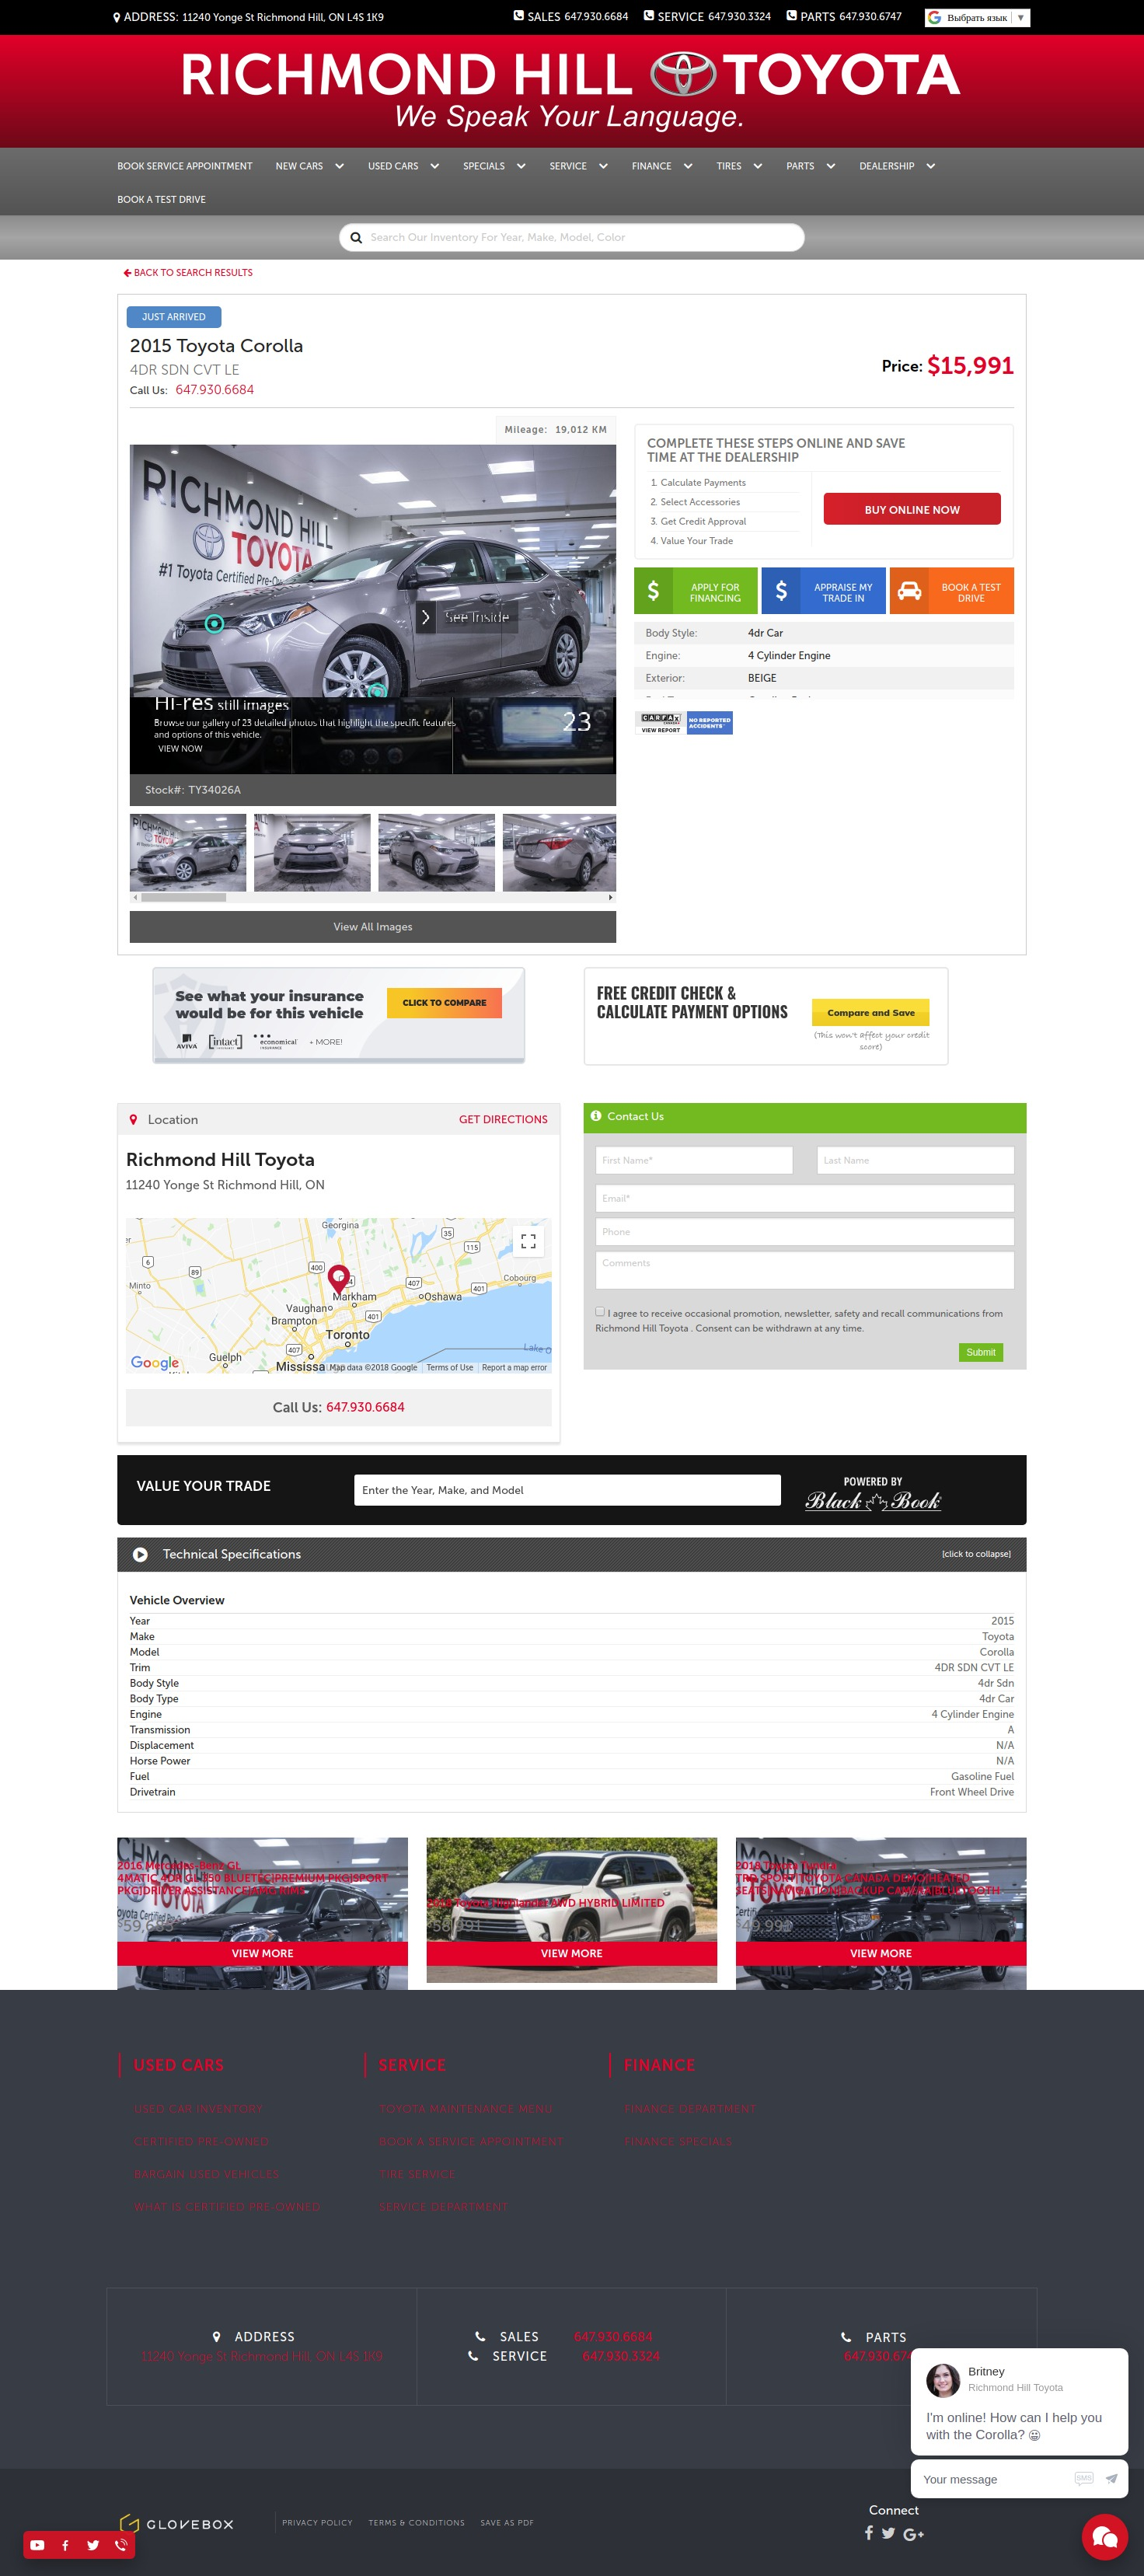car: (610, 895, 613, 902)
